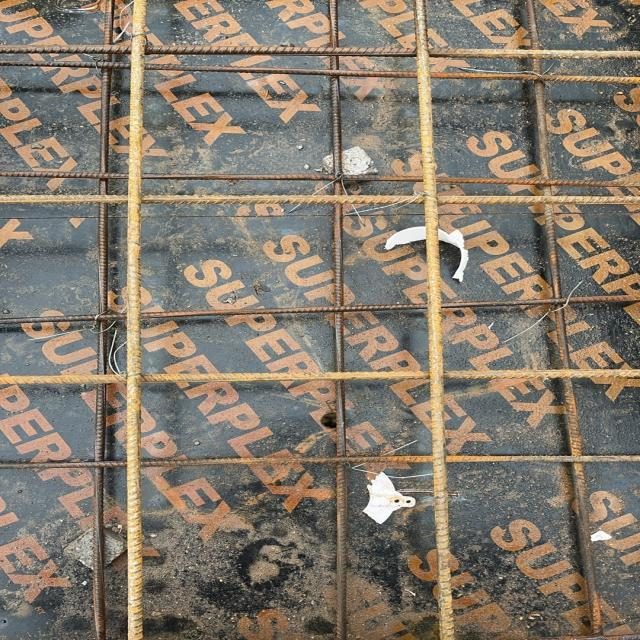ribbed bar: (521, 0, 604, 639), (409, 0, 458, 639), (0, 293, 639, 326), (0, 59, 639, 84), (325, 0, 350, 639), (93, 0, 114, 639), (0, 169, 639, 188), (0, 367, 639, 386), (126, 0, 145, 639), (0, 45, 639, 60), (0, 454, 639, 468), (0, 193, 639, 205)
